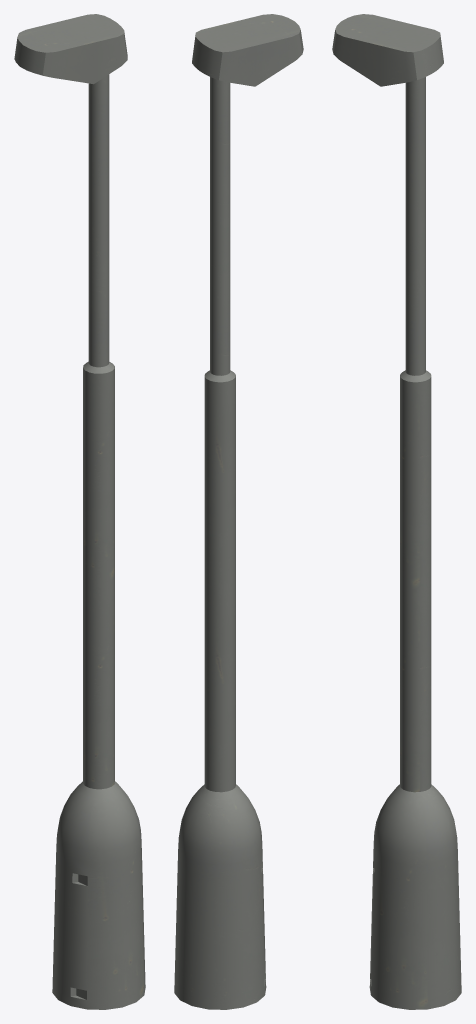
Rendered from Lampa-base.fbx.
3 views of the same model, side by side, from view 1: azimuth 30°, elevation 25°; view 2: azimuth 210°, elevation 25°; view 3: azimuth 330°, elevation 25° (orthographic).
Parts seen in each view (by area): view 1: Lampa_Stozar, Lampa_Svetlo; view 2: Lampa_Stozar, Lampa_Svetlo; view 3: Lampa_Stozar, Lampa_Svetlo.
Part boxes in pixels (x1,y1,x2,y2): Lampa_Stozar: (52, 74, 145, 1009); Lampa_Svetlo: (14, 14, 127, 84); Lampa_Stozar: (174, 77, 266, 1009); Lampa_Svetlo: (192, 14, 303, 86); Lampa_Stozar: (369, 77, 461, 1009); Lampa_Svetlo: (332, 14, 443, 86).
Bounding box in the file's own units: 60.22 × 464 × 41.
